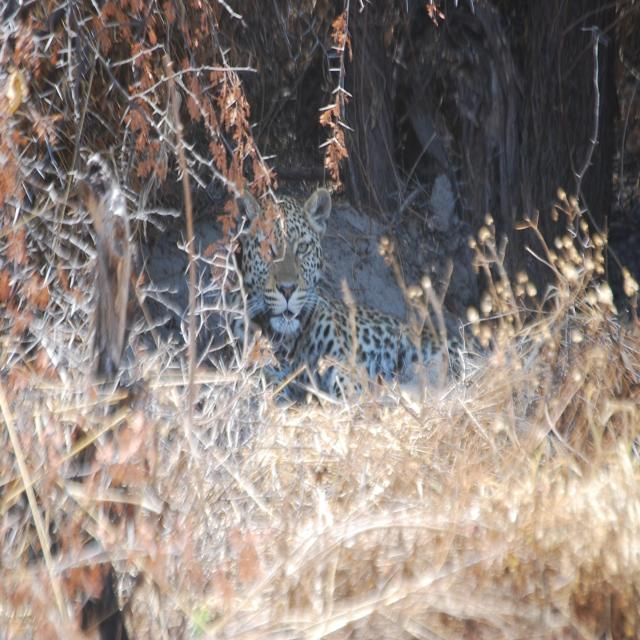Leopard: (231, 178, 486, 424)
